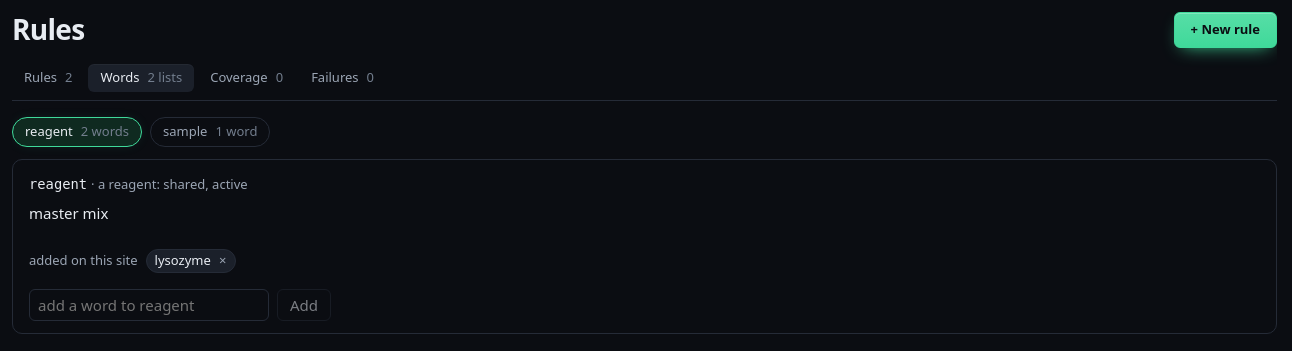
Scenario: KnowsPage › takes out a word added on this site; a shipped word has no ×
This screenshot has width=1292, height=351.
Check: the text "added on this site" is shown, box [29,251,138,270]
Click the button named "Take lysozyme out of the reagent list".
click(223, 261)  # box [213,251,233,271]
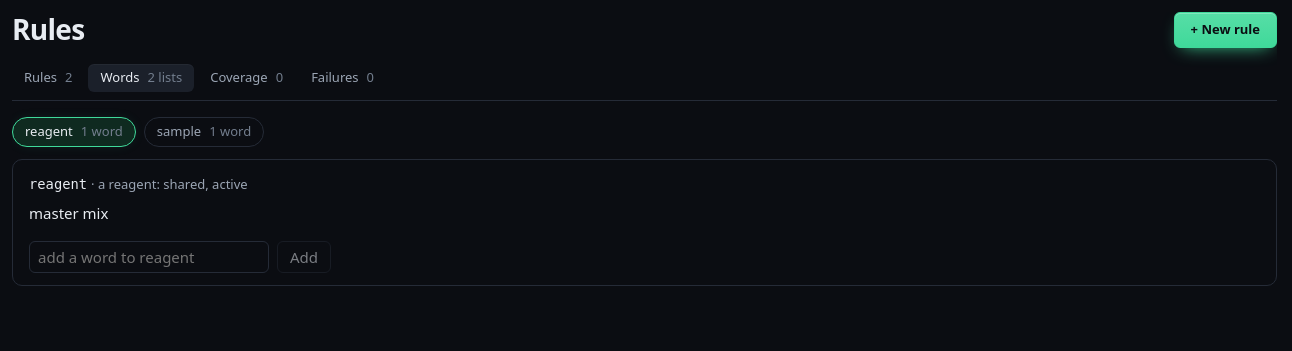
Check: the text "added on this site" is gone
